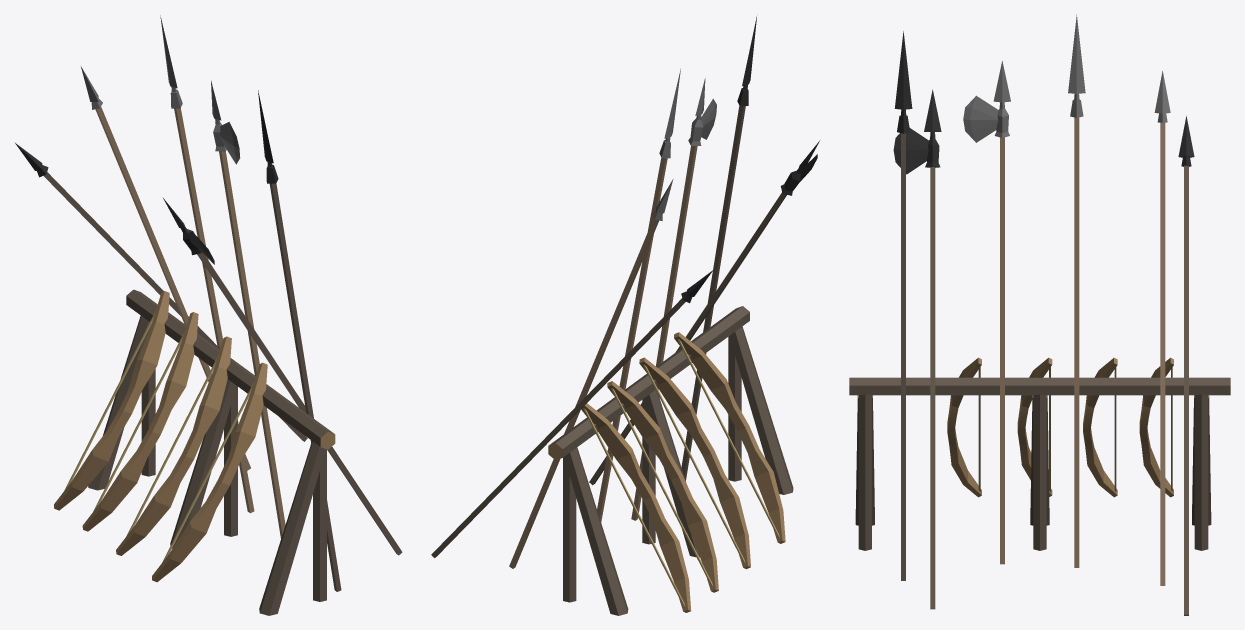
The model's file is Weapon_Holder_01.fbx.
3 views of the same model, side by side, from view 1: azimuth 30°, elevation 25°; view 2: azimuth 150°, elevation 25°; view 3: azimuth 270°, elevation 25° (orthographic). The views are drawn at different scales.
Visible parts, largest first — view 1: Weapon_Holder_01; view 2: Weapon_Holder_01; view 3: Weapon_Holder_01.
Part boxes in pixels (bbox=[...]): Weapon_Holder_01: bbox=[15, 15, 402, 615]; Weapon_Holder_01: bbox=[431, 16, 819, 615]; Weapon_Holder_01: bbox=[849, 14, 1230, 615].
Bounding box in the file's own units: 47.17 × 82.36 × 54.37.
